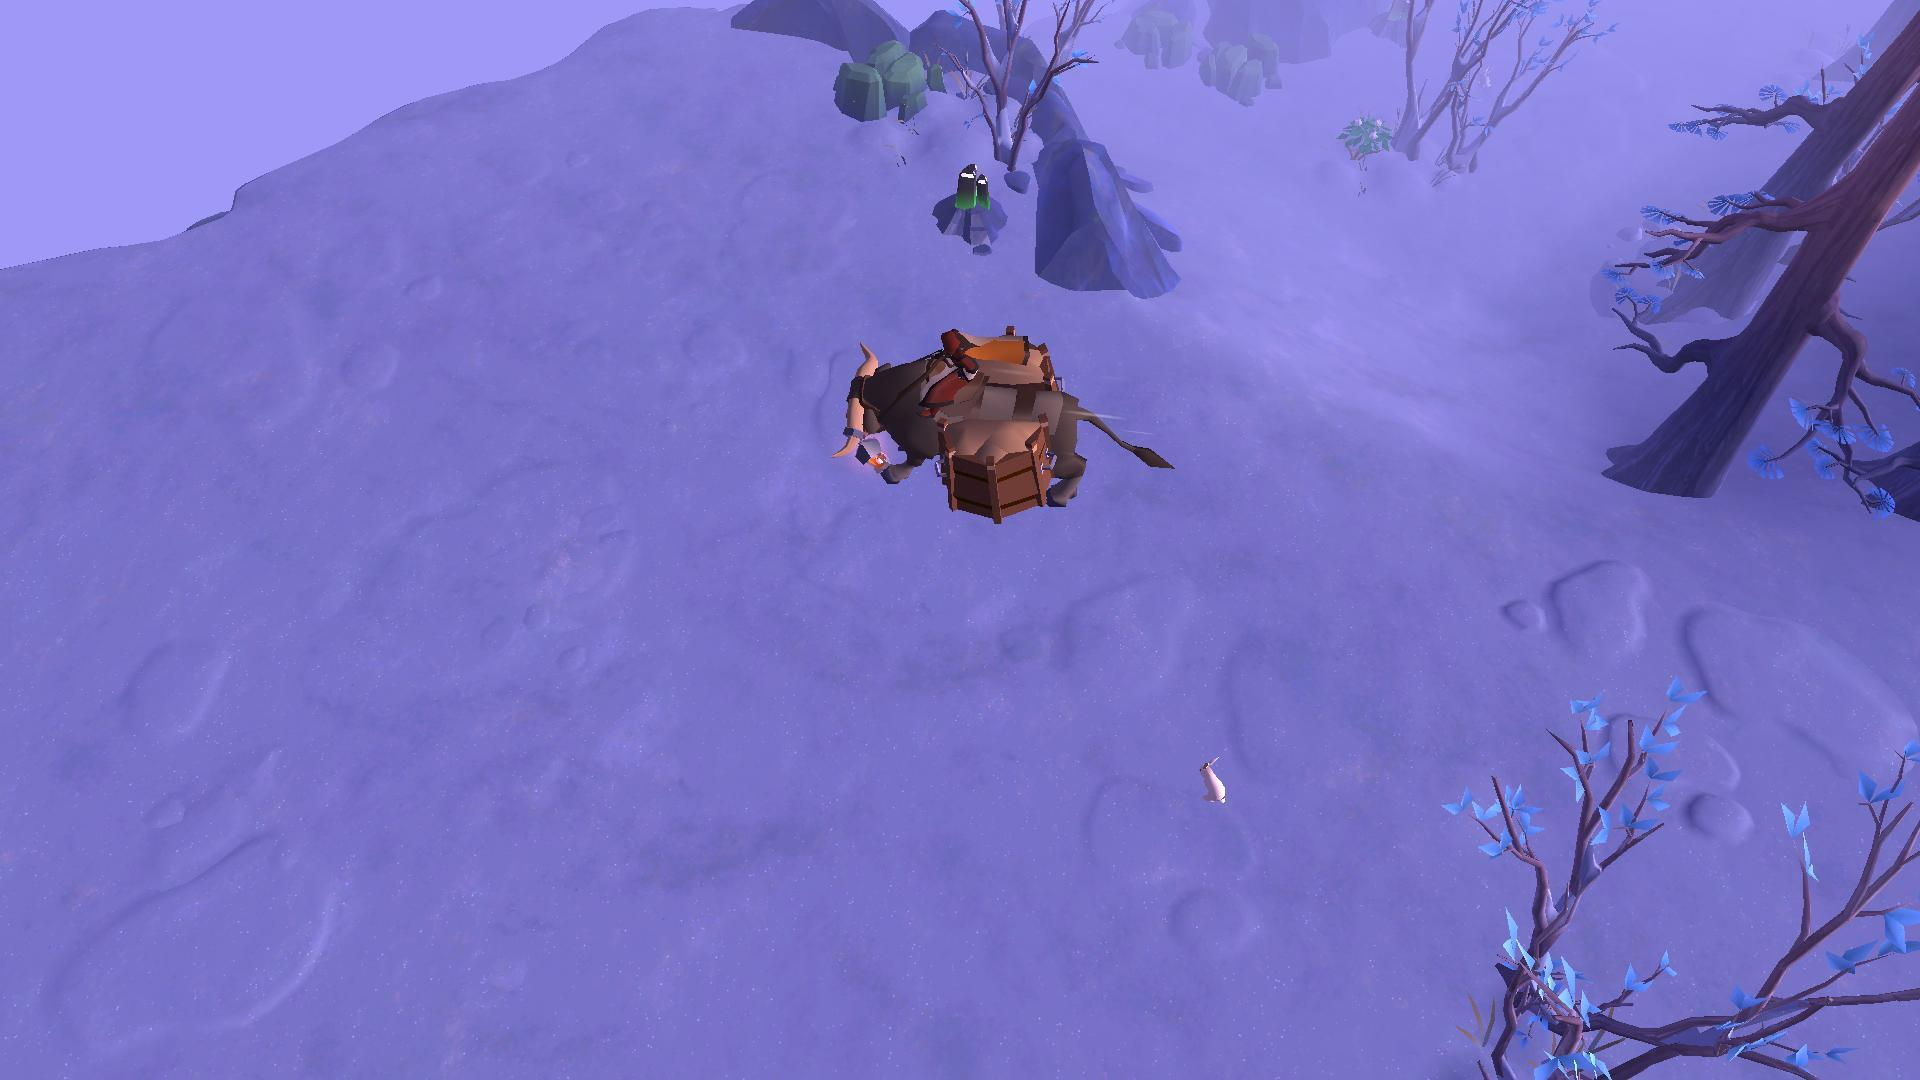fiber_t3: (1336, 112, 1394, 171)
ore_t3: (947, 158, 990, 207)
rock_t3: (820, 29, 944, 131), (1196, 25, 1299, 115), (1100, 0, 1193, 82)
